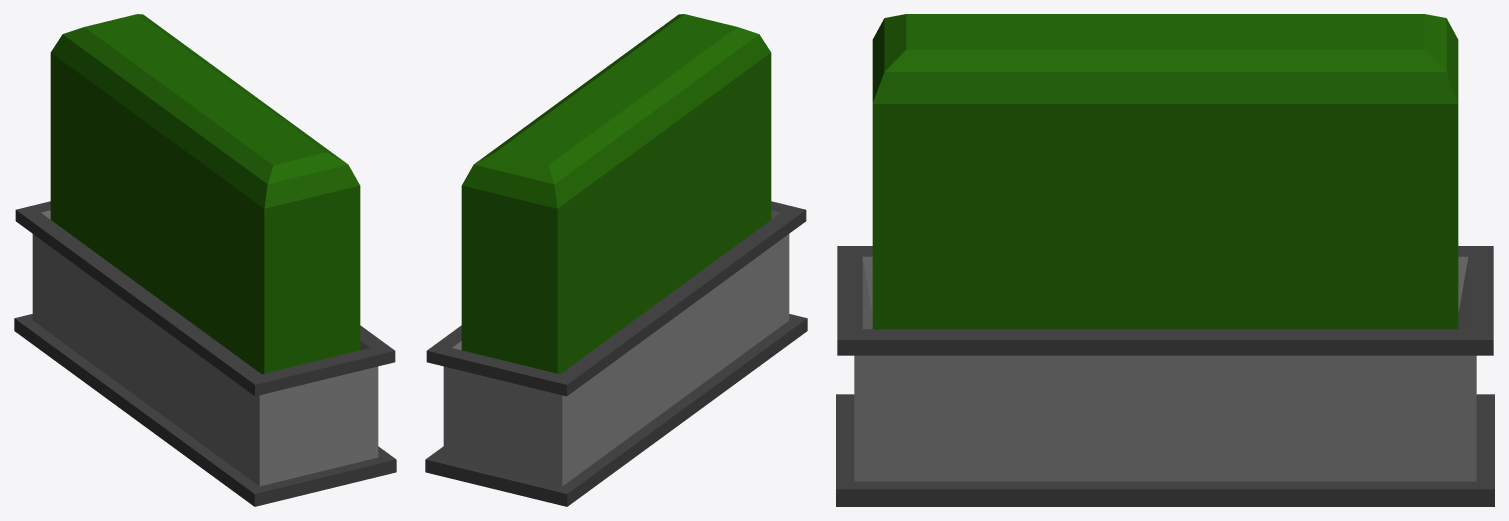
Rendered from bush_01_Medium.fbx.
The picture shows the model from 3 angles, left to right: view 1: azimuth 30°, elevation 25°; view 2: azimuth 150°, elevation 25°; view 3: azimuth 270°, elevation 25°; orthographic projection. The views are drawn at different scales.
Visible parts, largest first — view 1: bush_01_Medium; view 2: bush_01_Medium; view 3: bush_01_Medium.
Part boxes in pixels (x1,y1,x2,y2): bush_01_Medium: (14,14,396,506); bush_01_Medium: (425,14,807,506); bush_01_Medium: (836,14,1494,506).
Bounding box in the file's own units: 100 × 210 × 294.
Materials: 1 (1 with a texture image).
